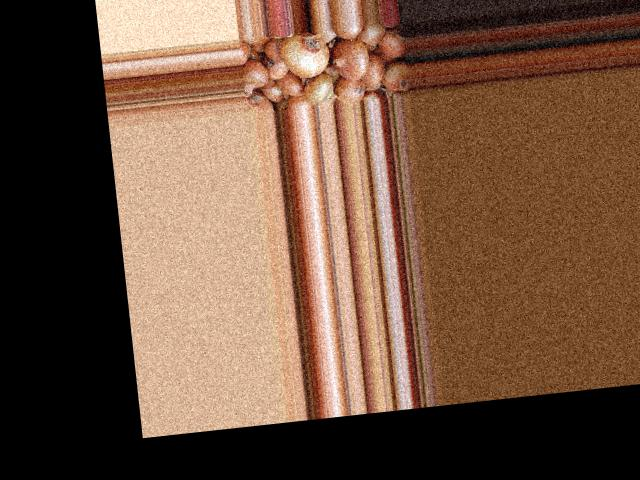onion: (382, 61, 410, 91)
